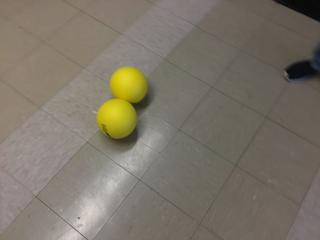power_cell: (106, 66, 153, 108), (95, 97, 138, 141)
